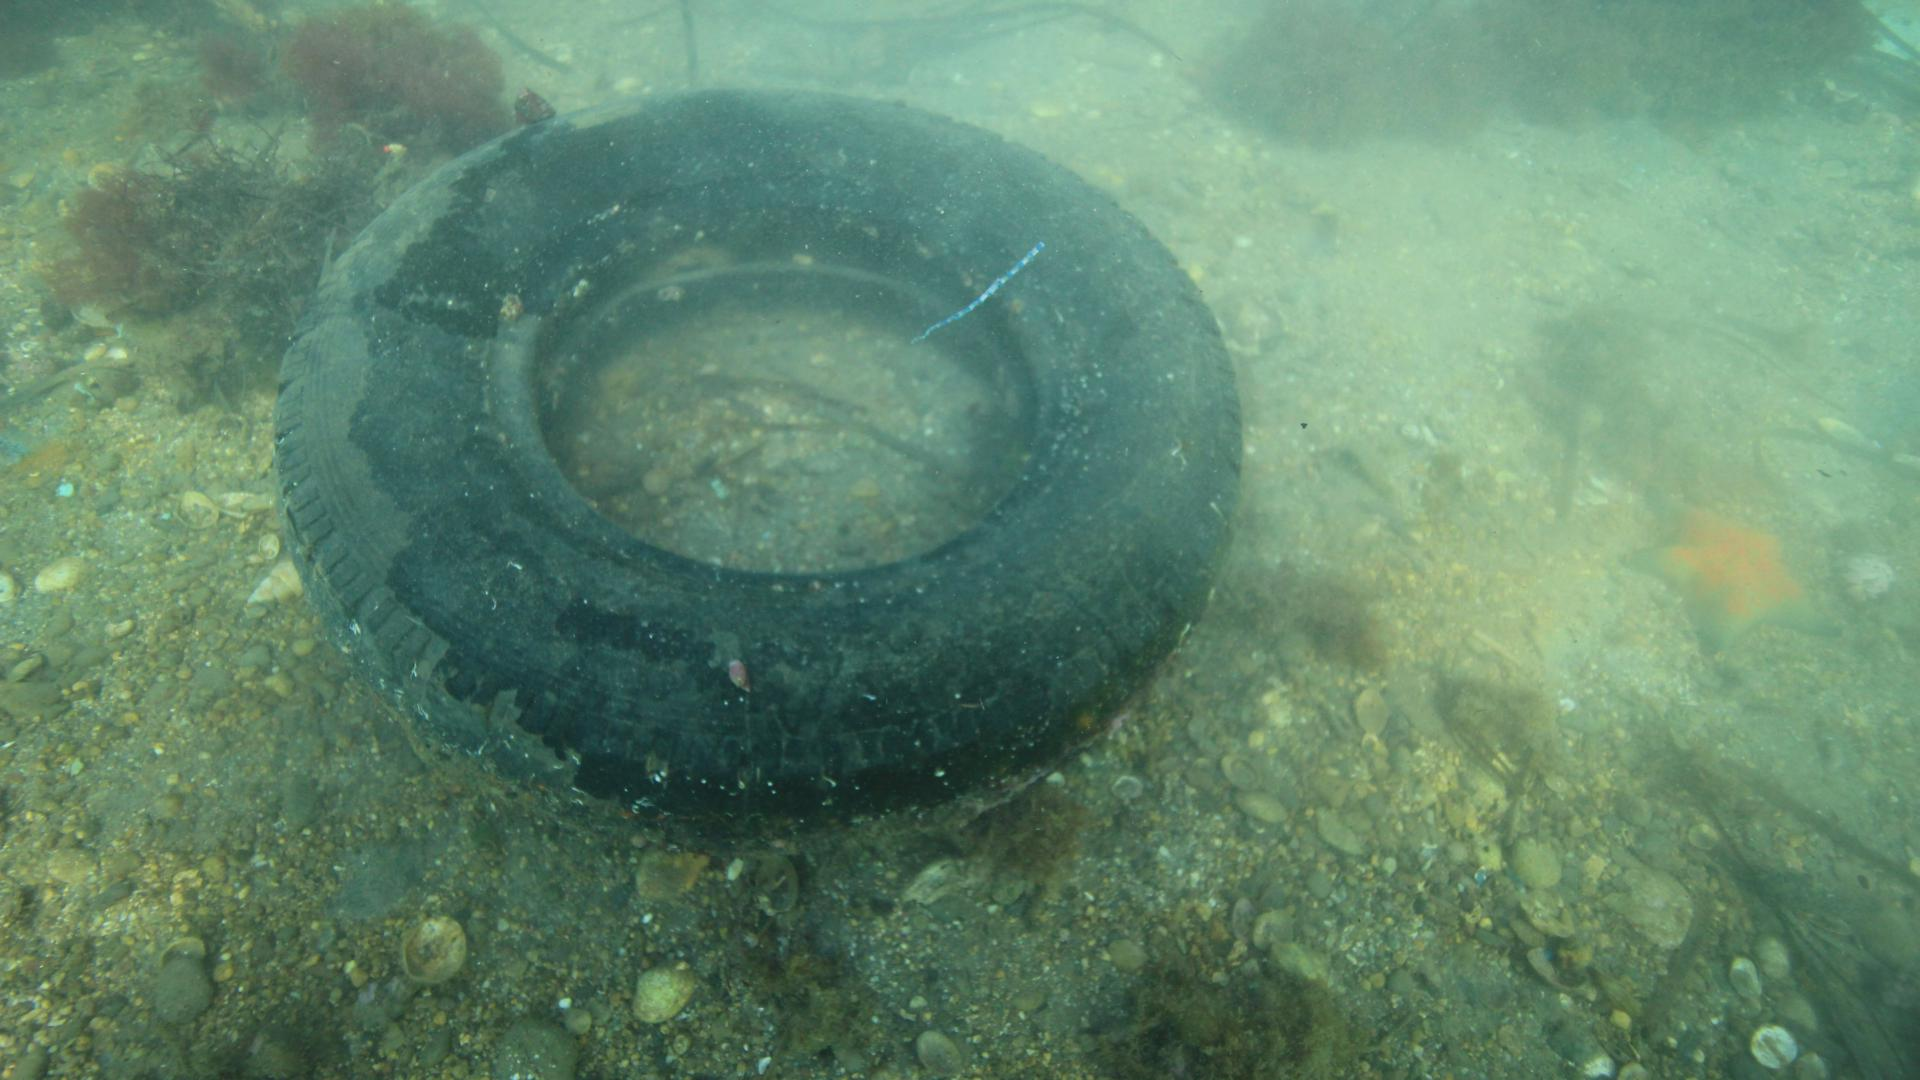tire: (270, 91, 1247, 840)
